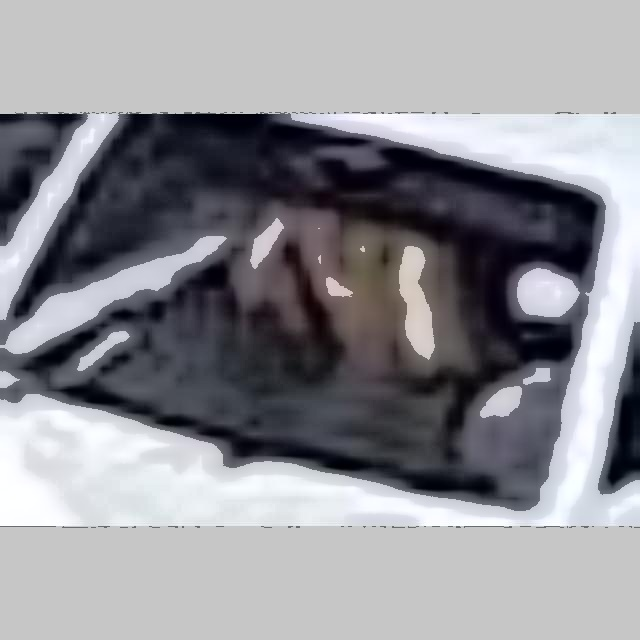pakai: (228, 201, 466, 407)
